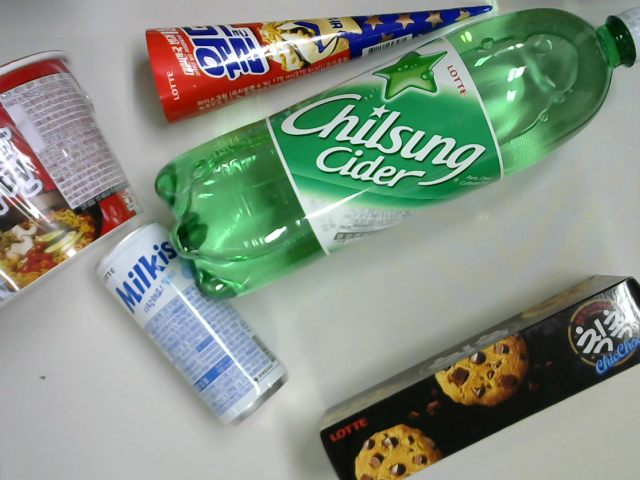Chicchok_Original_2400: (313, 270, 636, 480)
Chilseong_Cider_1.5L: (148, 1, 636, 305)
Hejangpul: (1, 47, 145, 305)
Milkies_250ml: (95, 215, 292, 435)
World_Cone_Banila: (138, 1, 501, 124)
